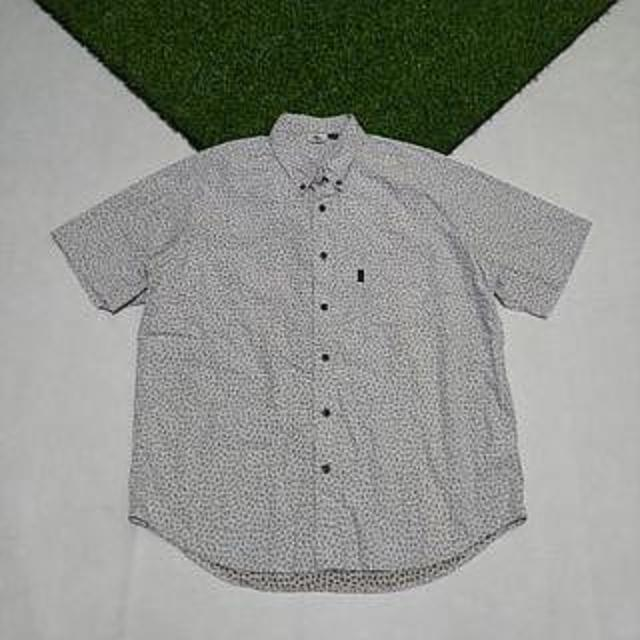SHIRT: (32, 102, 637, 609)
